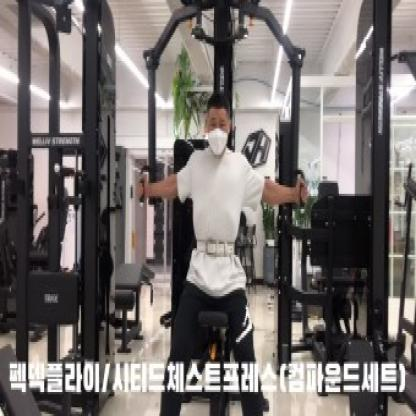chest fly machine: (122, 0, 311, 416)
